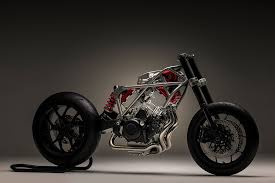motorcycle: (30, 49, 260, 177)
